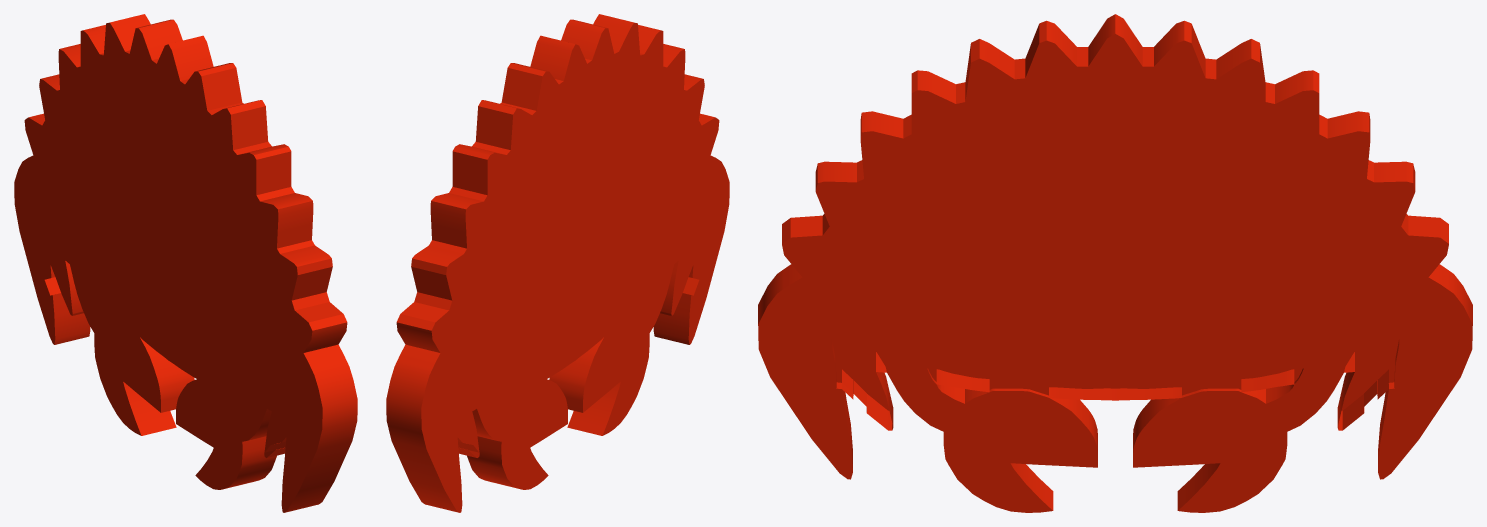
Rendered from rustcrab.glb.
The picture shows the model from 3 angles, left to right: view 1: azimuth 30°, elevation 25°; view 2: azimuth 150°, elevation 25°; view 3: azimuth 270°, elevation 25°; orthographic projection. The views are drawn at different scales.
Parts seen in each view (by area): view 1: Object_12; view 2: Object_12; view 3: Object_12.
Part boxes in pixels (x1,y1,x2,y2): Object_12: (14,14,357,512); Object_12: (386,14,729,512); Object_12: (758,14,1472,512).
Bounding box in the file's own units: 0.1791 × 1.54 × 2.08.
